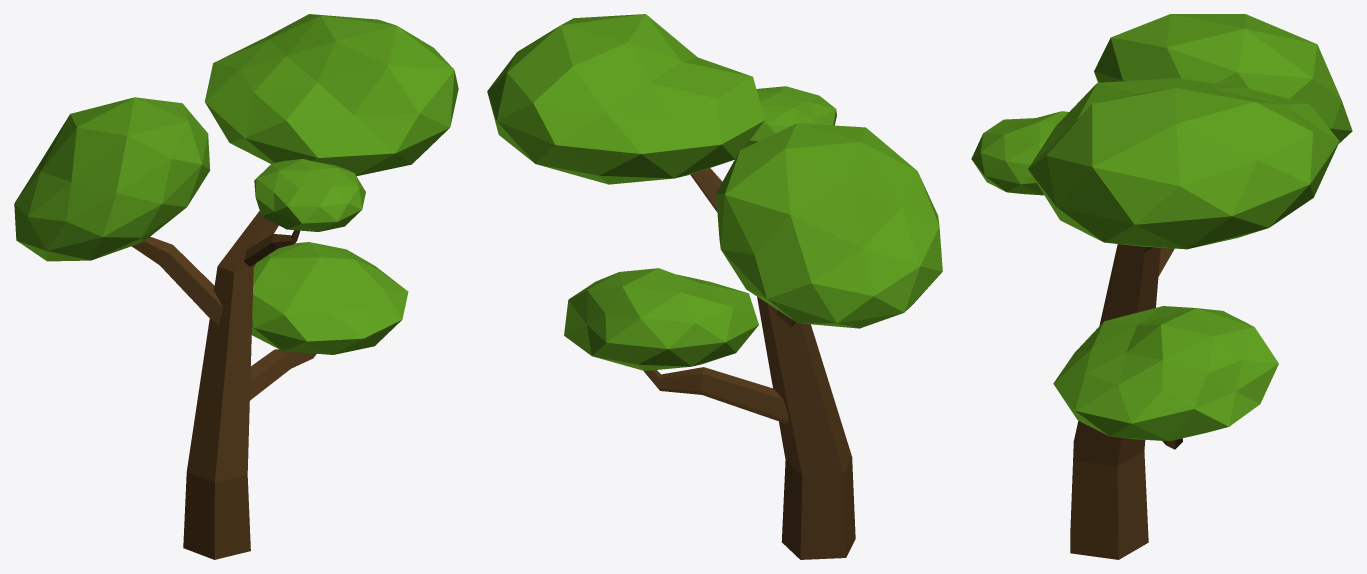
File: Tree_01.fbx
3 renders of one model, left to right at view 1: azimuth 30°, elevation 25°; view 2: azimuth 150°, elevation 25°; view 3: azimuth 270°, elevation 25°, orthographic. The views are drawn at different scales.
Visible parts, largest first — view 1: Tree_01; view 2: Tree_01; view 3: Tree_01.
Part boxes in pixels (bbox=[...]): Tree_01: bbox=[14, 14, 458, 559]; Tree_01: bbox=[487, 14, 942, 559]; Tree_01: bbox=[971, 14, 1352, 559].
Size of the model in its own units: 1.53 by 1.65 by 1.05.
